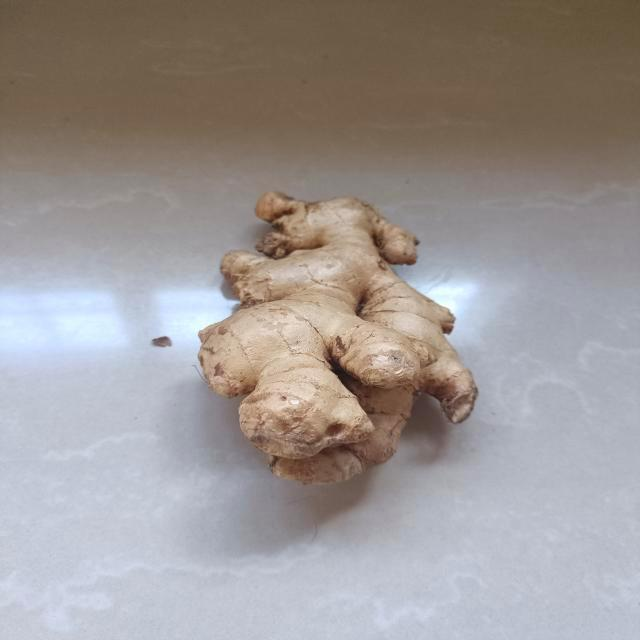ginger: (194, 187, 482, 493)
